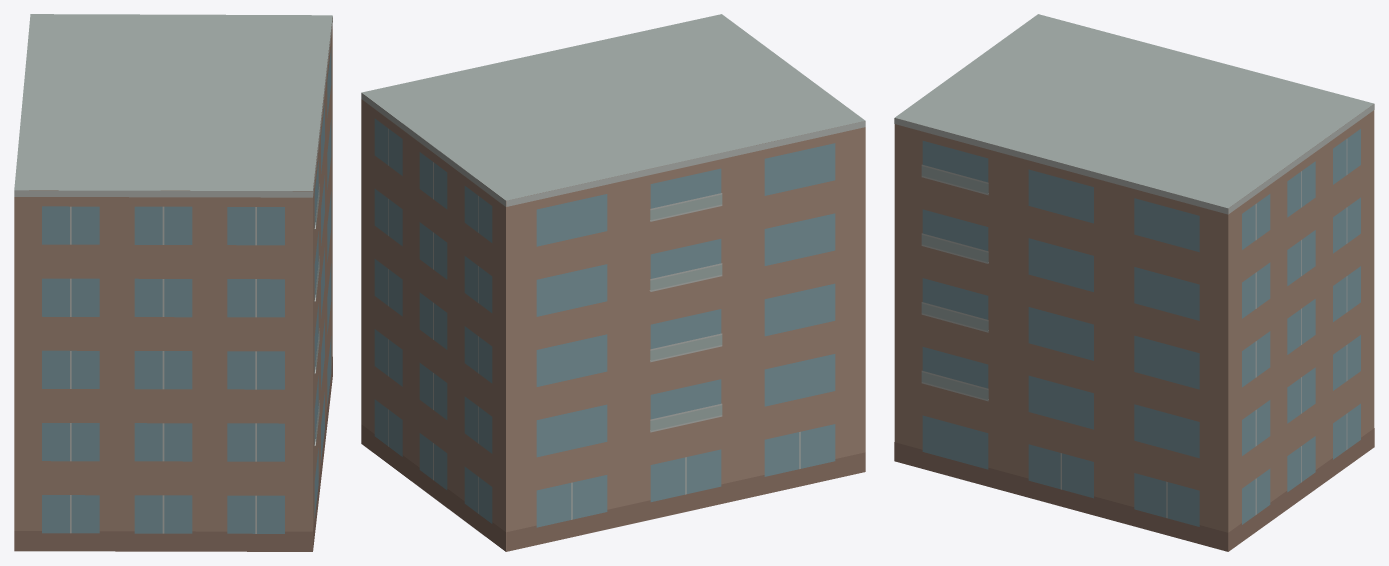
File: survey-upis-32955142.glb
The picture shows the model from 3 angles, left to right: view 1: azimuth 30°, elevation 25°; view 2: azimuth 150°, elevation 25°; view 3: azimuth 270°, elevation 25°; orthographic projection. The views are drawn at different scales.
Visible parts, largest first — view 1: survey-upis-32955142.tmp; view 2: survey-upis-32955142.tmp; view 3: survey-upis-32955142.tmp.
Boxes of the visible parts, x1,y1,x2,y2 form: survey-upis-32955142.tmp: [14, 14, 332, 551]; survey-upis-32955142.tmp: [361, 14, 865, 551]; survey-upis-32955142.tmp: [894, 14, 1374, 551].
Size of the model in its own units: 16.39 by 13.5 by 17.1.
